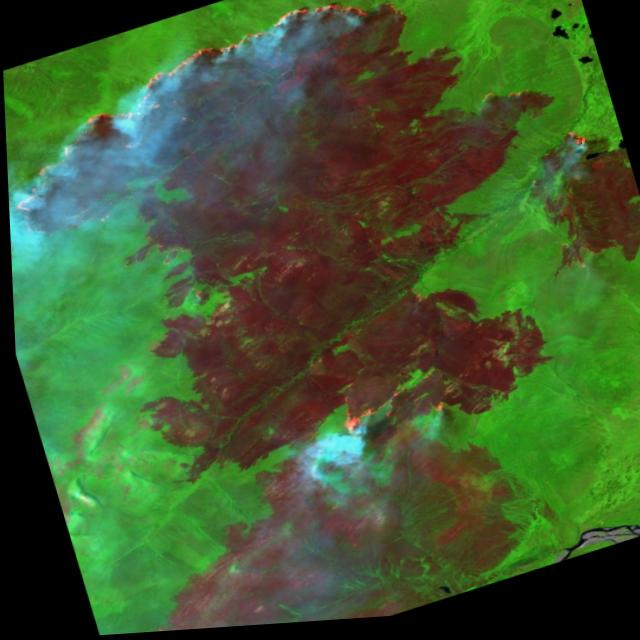fire: (0, 0, 450, 268), (318, 368, 453, 461), (538, 119, 601, 175)
